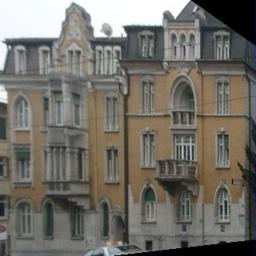building: (128, 1, 256, 256), (0, 2, 125, 256)
